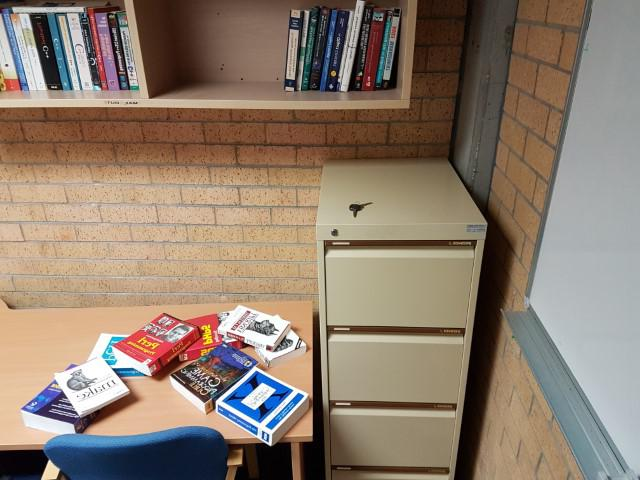key: (350, 200, 372, 210)
